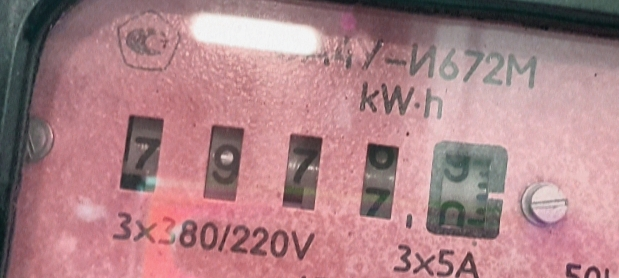0: (432, 193, 469, 234)
7: (126, 131, 160, 176), (285, 143, 319, 188), (358, 183, 391, 221)
9: (205, 139, 243, 187), (439, 146, 473, 184)
screen: (95, 90, 533, 264)
